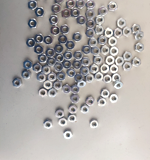nut: (35, 7, 45, 18), (28, 18, 38, 29), (108, 1, 118, 12), (114, 28, 124, 39), (35, 34, 45, 45), (26, 38, 36, 48), (23, 60, 33, 70), (22, 70, 32, 80), (52, 4, 62, 14), (77, 15, 87, 25), (117, 18, 127, 28), (123, 27, 133, 37), (110, 47, 120, 57), (135, 43, 145, 53), (73, 33, 83, 43), (86, 29, 96, 39), (95, 15, 105, 25), (51, 26, 61, 36), (71, 94, 81, 104), (63, 130, 73, 140), (135, 31, 145, 41), (34, 45, 44, 55), (133, 57, 142, 68), (116, 56, 125, 67), (92, 46, 101, 57), (83, 45, 92, 56), (99, 6, 108, 17), (44, 35, 53, 46), (13, 78, 22, 88), (66, 0, 76, 9), (86, 97, 96, 106), (109, 37, 118, 47), (105, 28, 114, 38), (86, 0, 96, 9), (101, 64, 110, 74), (82, 57, 91, 67), (67, 41, 76, 51), (61, 25, 70, 35), (50, 15, 59, 25), (33, 63, 42, 73), (47, 48, 56, 58), (57, 72, 66, 82), (67, 68, 76, 78), (63, 84, 72, 94), (42, 65, 51, 75), (64, 51, 73, 61), (74, 51, 83, 61), (73, 60, 82, 70), (90, 64, 99, 74), (103, 75, 113, 84), (114, 81, 124, 90), (101, 89, 111, 98), (133, 24, 142, 34), (48, 89, 58, 98), (62, 9, 71, 19), (95, 72, 104, 82), (86, 10, 96, 19), (54, 63, 64, 72), (98, 36, 107, 46), (124, 62, 133, 72), (46, 49, 56, 58), (94, 55, 103, 65), (89, 38, 98, 48), (47, 58, 57, 67), (29, 1, 38, 10), (110, 95, 119, 104), (113, 74, 122, 83), (98, 98, 107, 107), (90, 120, 99, 129), (81, 105, 90, 114), (56, 110, 65, 119), (39, 89, 48, 98), (86, 74, 95, 83), (37, 73, 46, 82), (106, 56, 115, 65), (48, 73, 57, 82), (44, 81, 53, 90), (55, 45, 64, 54), (77, 79, 86, 88), (55, 54, 64, 63), (96, 26, 105, 35), (101, 46, 110, 55), (77, 1, 87, 9), (44, 120, 52, 130), (38, 55, 48, 63), (71, 86, 80, 94), (124, 52, 132, 61), (69, 106, 78, 114), (68, 115, 77, 123), (59, 36, 68, 44), (64, 61, 72, 70), (86, 20, 95, 28), (81, 67, 89, 76), (110, 65, 118, 74), (59, 119, 67, 127), (54, 82, 62, 90), (73, 10, 80, 17), (55, 0, 64, 4)
